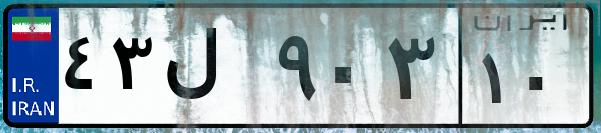0: (330, 28, 385, 110), (525, 38, 570, 115)
1: (475, 38, 525, 113)
3: (385, 28, 445, 110), (110, 28, 158, 98)
4: (57, 26, 110, 100)
9: (270, 28, 330, 110)
ل: (158, 20, 270, 120)
